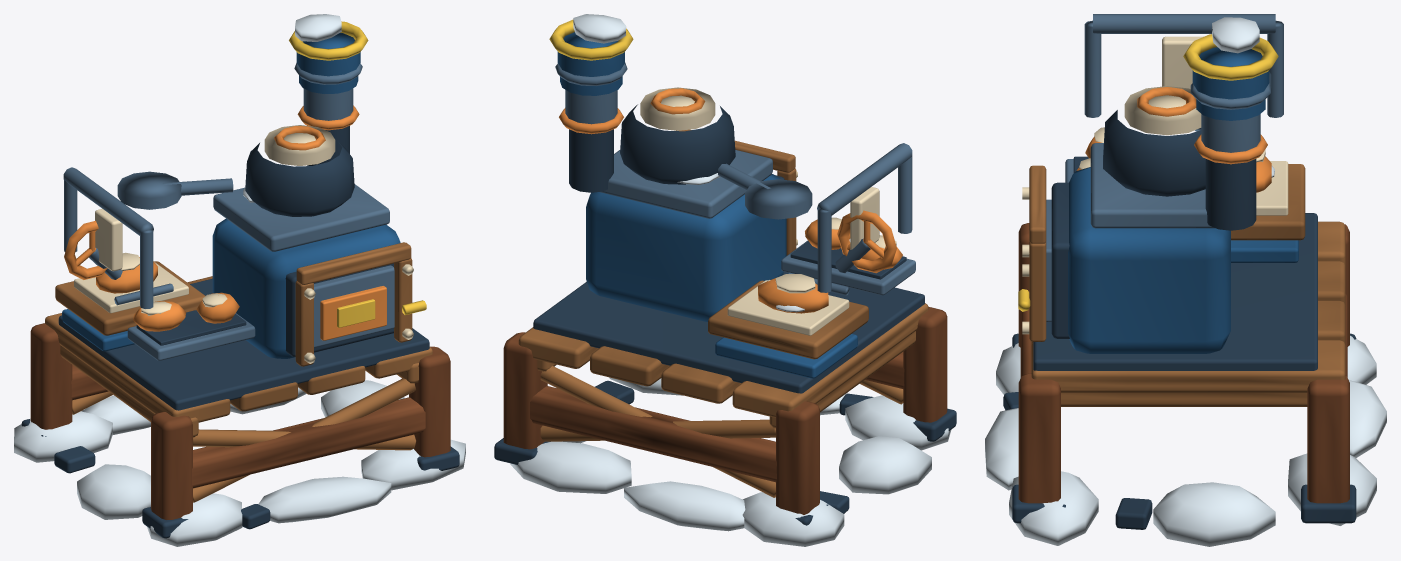
The model's file is cooker_processor.glb.
The picture shows the model from 3 angles, left to right: view 1: azimuth 30°, elevation 25°; view 2: azimuth 150°, elevation 25°; view 3: azimuth 270°, elevation 25°; orthographic projection. The views are drawn at different scales.
Parts seen in each view (by area): view 1: cooker_processor; view 2: cooker_processor; view 3: cooker_processor.
Part boxes in pixels (x1=…): cooker_processor: x1=14, y1=14, x2=465, y2=546; cooker_processor: x1=494, y1=14, x2=956, y2=546; cooker_processor: x1=985, y1=14, x2=1386, y2=546.
Size of the model in its own units: 2.24 by 2.54 by 1.89.
